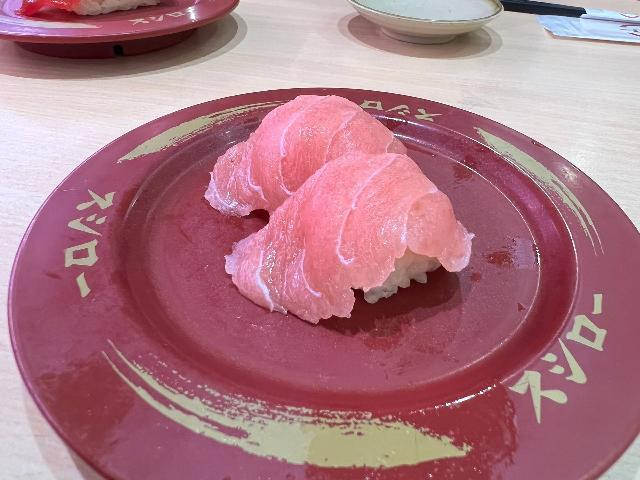janred: (44, 118, 640, 480), (0, 1, 254, 65)
